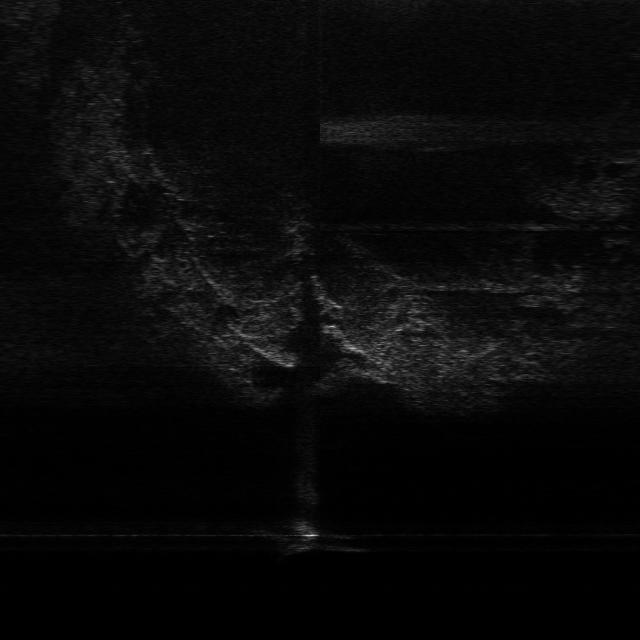plane: (250, 517, 370, 557)
